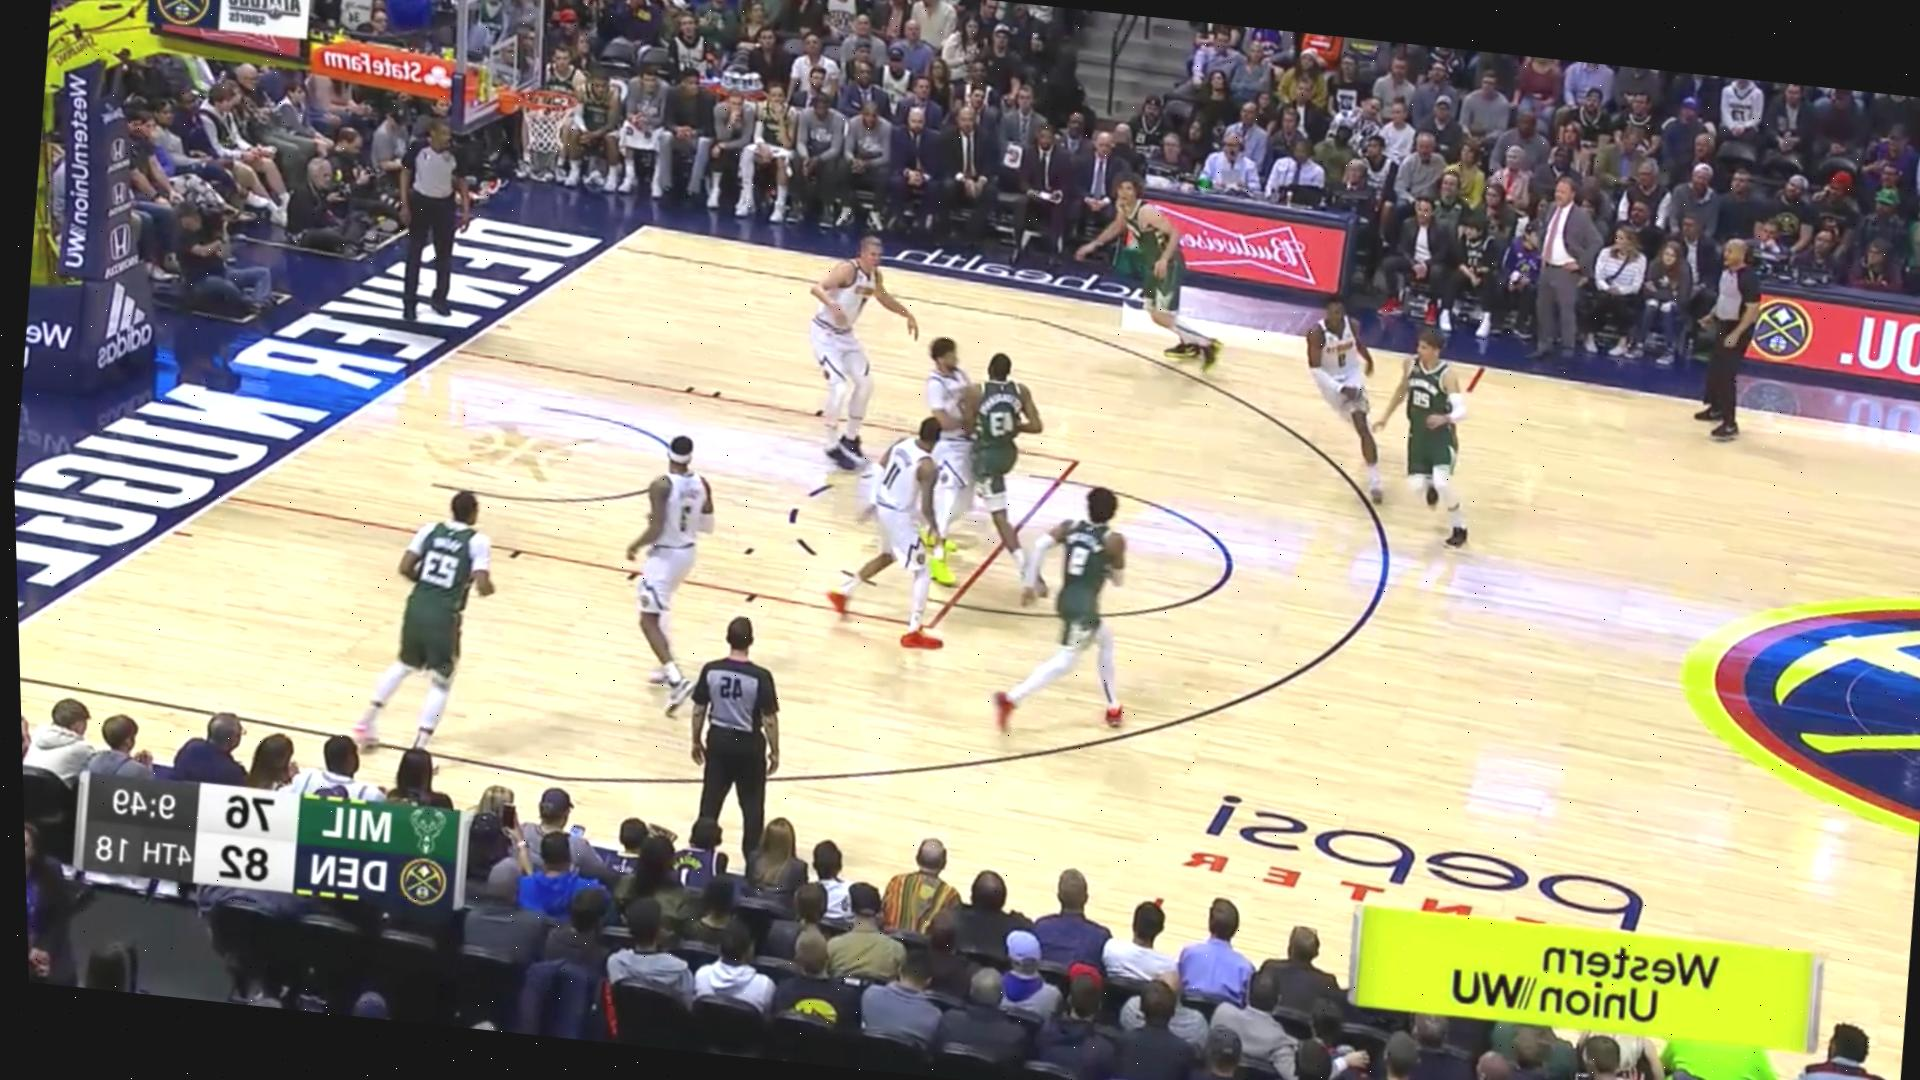foul: (918, 324, 1040, 550)
